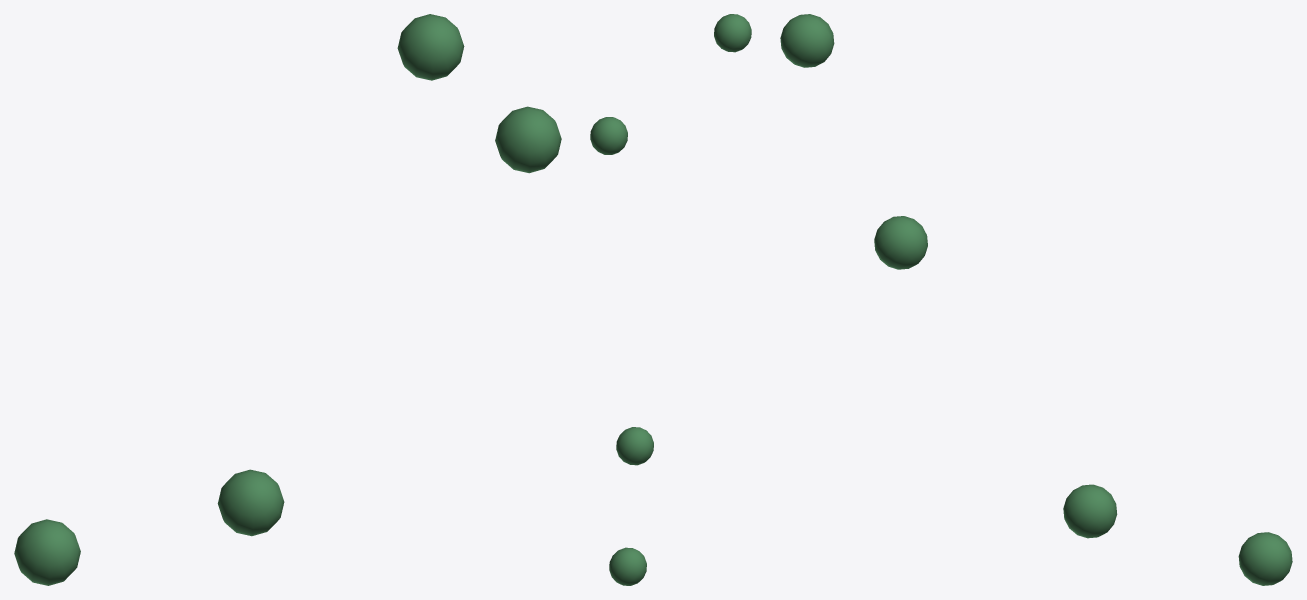
3 renders of one model, left to right at view 1: azimuth 30°, elevation 25°; view 2: azimuth 150°, elevation 25°; view 3: azimuth 270°, elevation 25°, orthographic. The views are drawn at different scales.
Parts seen in each view (by area): view 1: 左侧闭孔淋巴结; view 2: 左侧闭孔淋巴结; view 3: 左侧闭孔淋巴结.
Boxes of the visible parts, x1,y1,x2,y2 form: 左侧闭孔淋巴结: (14,14,561,585); 左侧闭孔淋巴结: (590,14,751,585); 左侧闭孔淋巴结: (780,14,1292,585).
Size of the model in its own units: 0.0208 by 0.0473 by 0.0361.
